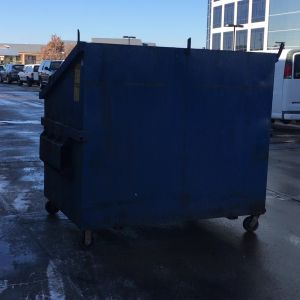Dumpster: (34, 25, 287, 247)
